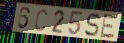2: (51, 10, 66, 35)
5: (67, 11, 85, 36)
6: (17, 7, 31, 31)
C: (34, 9, 48, 32)
E: (99, 12, 120, 41)
S: (84, 12, 101, 38)
